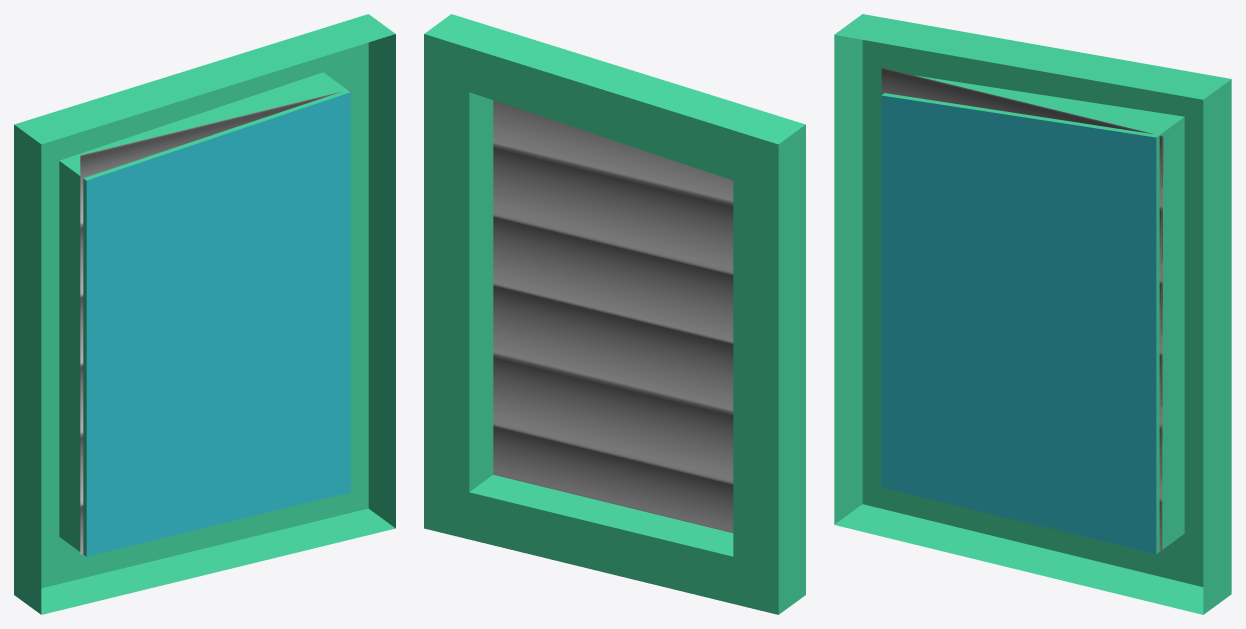
The model's file is WindowLarge.fbx.
3 renders of one model, left to right at view 1: azimuth 30°, elevation 25°; view 2: azimuth 150°, elevation 25°; view 3: azimuth 330°, elevation 25°, orthographic. The views are drawn at different scales.
Visible parts, largest first — view 1: WindowLarge, Blind.002; view 2: WindowLarge, Blind.002; view 3: WindowLarge, Blind.002.
Part boxes in pixels (<box>): WindowLarge: <box>14,14,395,614</box>; Blind.002: <box>80,89,350,555</box>; WindowLarge: <box>424,14,805,614</box>; Blind.002: <box>493,100,733,532</box>; WindowLarge: <box>834,14,1231,614</box>; Blind.002: <box>881,67,1163,552</box>.
Size of the model in its own units: 112 by 150 by 15.
